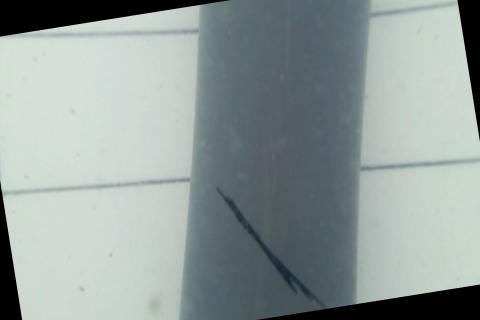keretakan: (215, 169, 332, 320)
